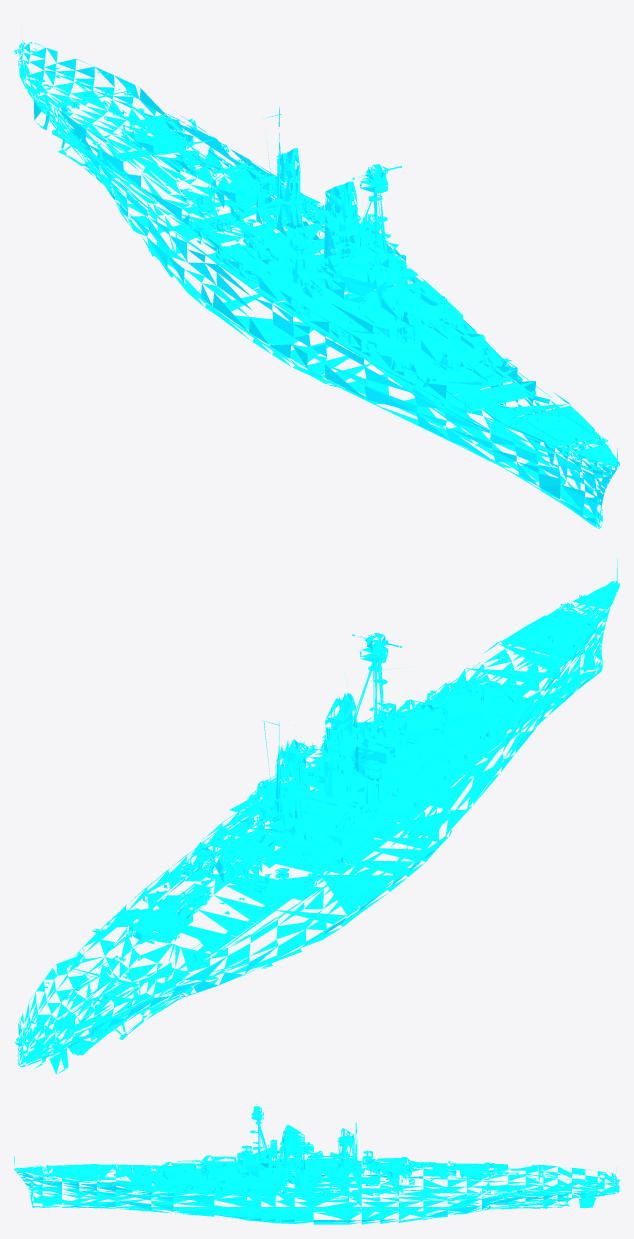
The model's file is Prinz_Eithel_Friedrich.glb.
3 views of the same model, one above another, from view 1: azimuth 30°, elevation 25°; view 2: azimuth 150°, elevation 25°; view 3: azimuth 270°, elevation 25° (orthographic). The views are drawn at different scales.
Bounding box in the file's own units: 2.16 × 2.77 × 15.21.
